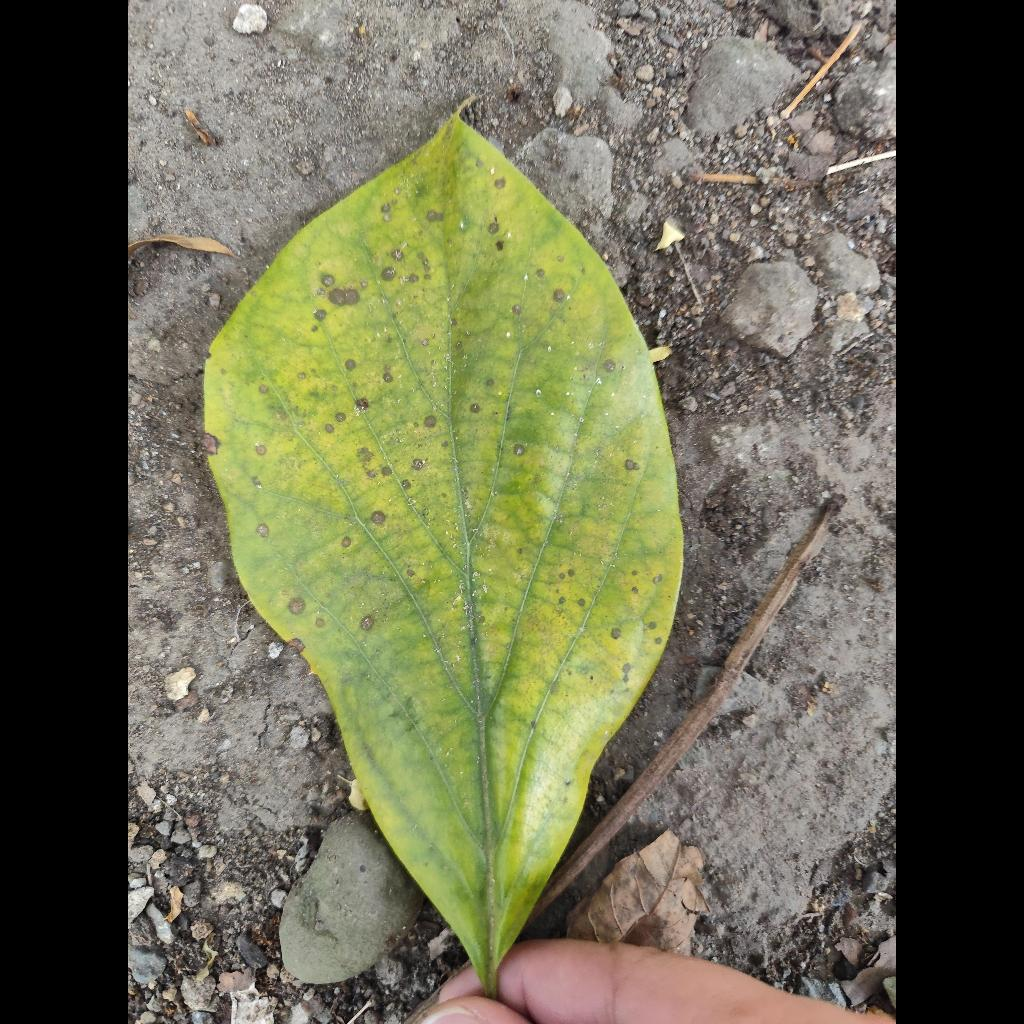nutrient_deficiency: (205, 115, 682, 990)
